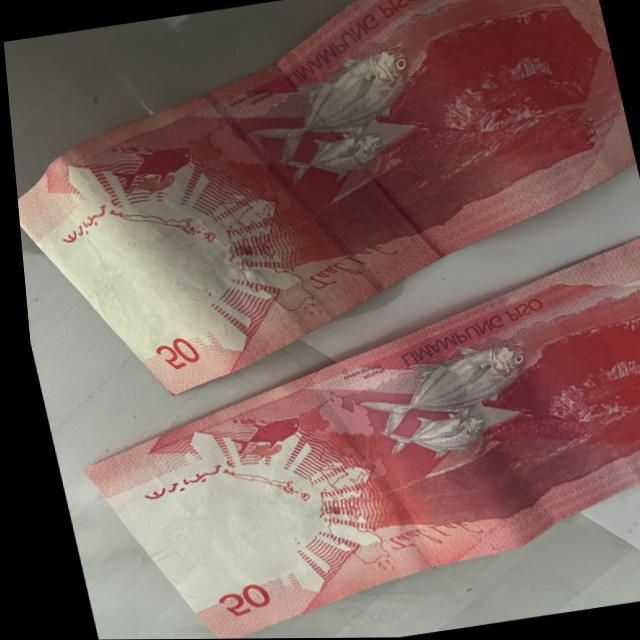50_maliputo: (223, 27, 453, 208), (342, 330, 552, 482)
50_maliputo_watermark: (92, 138, 206, 211), (211, 407, 311, 473)
value_watermark: (144, 515, 186, 548)
